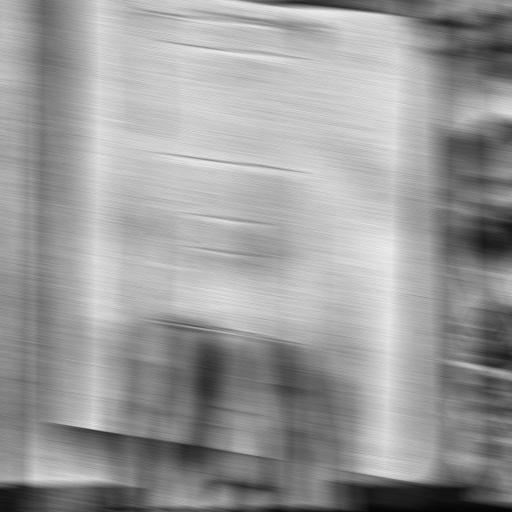bottom_left: (402, 473, 422, 487)
bottom_right: (52, 413, 74, 430)
door: (128, 3, 323, 445)
top_left: (415, 11, 435, 25)
